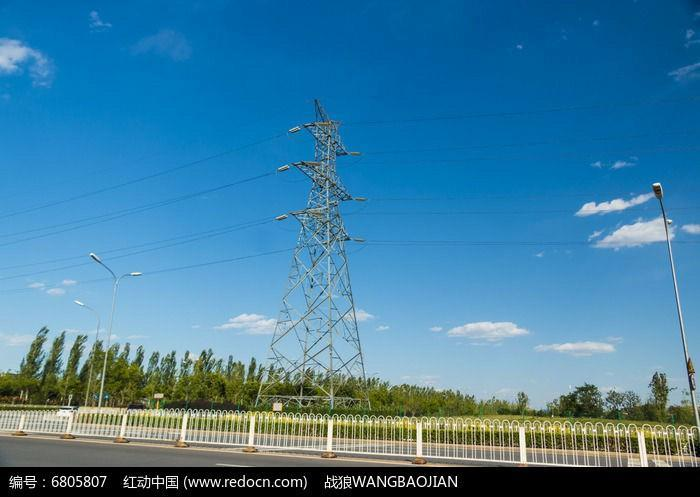power_tower: (251, 83, 371, 416)
